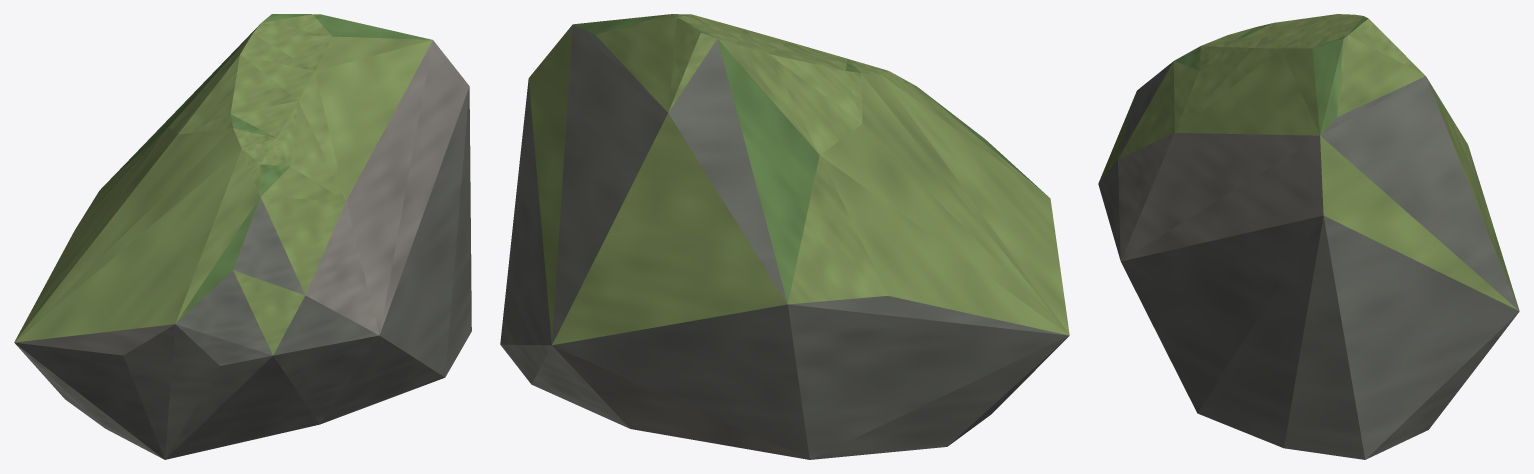
The model's file is rock_mossy_medium_02.fbx.
3 renders of one model, left to right at view 1: azimuth 30°, elevation 25°; view 2: azimuth 150°, elevation 25°; view 3: azimuth 270°, elevation 25°, orthographic. The views are drawn at different scales.
Parts seen in each view (by area): view 1: rock_mossy_medium_02; view 2: rock_mossy_medium_02; view 3: rock_mossy_medium_02.
Part boxes in pixels (x1,y1,x2,y2): rock_mossy_medium_02: [14, 14, 471, 459]; rock_mossy_medium_02: [500, 14, 1069, 459]; rock_mossy_medium_02: [1098, 14, 1519, 459].
Size of the model in its own units: 1.82 by 1.19 by 1.31.
